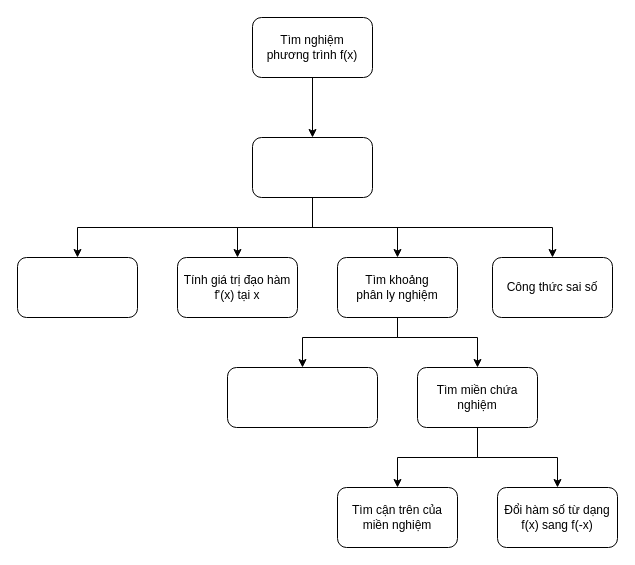
The diagram is 635 pixels wide and 565 high, and some of its shapes have lost their labels. Each missing label, with the box of its shape:
Phương pháp tiếp tuyến: (252, 136, 372, 198)
Thu hẹp khoảng bằng phương pháp chia đôi: (226, 366, 378, 428)
Tính giá trị hàm số f(x) tại x: (16, 256, 138, 318)
